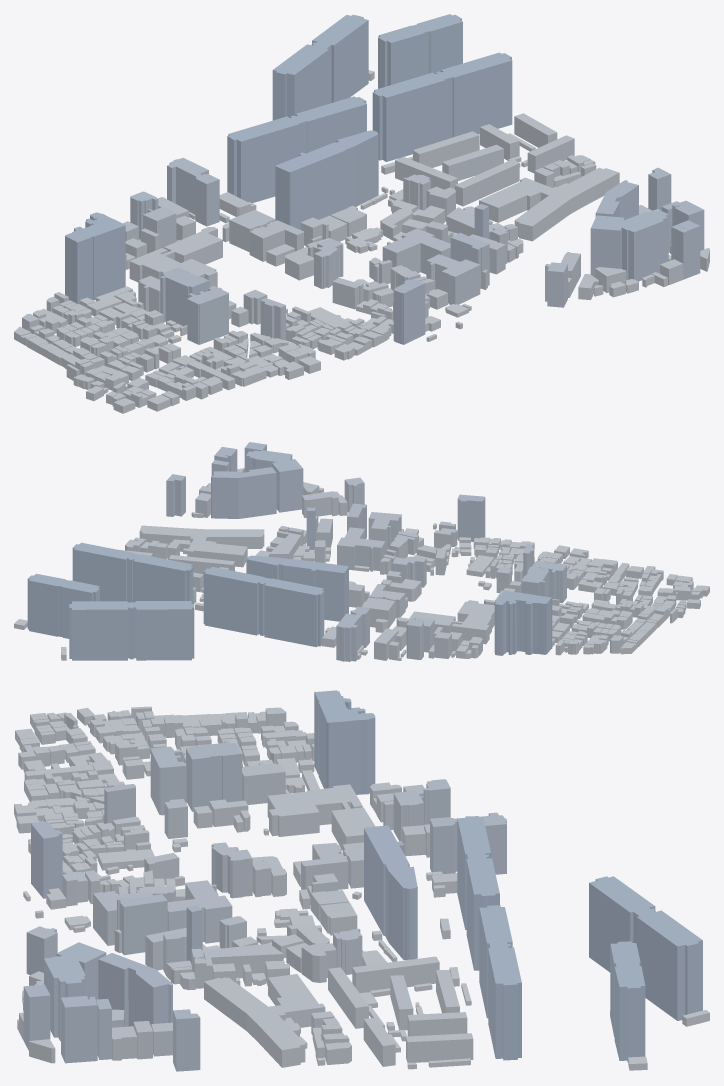
The picture shows the model from 3 angles, top to bottom: view 1: azimuth 30°, elevation 25°; view 2: azimuth 150°, elevation 25°; view 3: azimuth 270°, elevation 25°; orthographic projection. The views are drawn at different scales.
Size of the model in its own units: 511 by 51.01 by 423.
